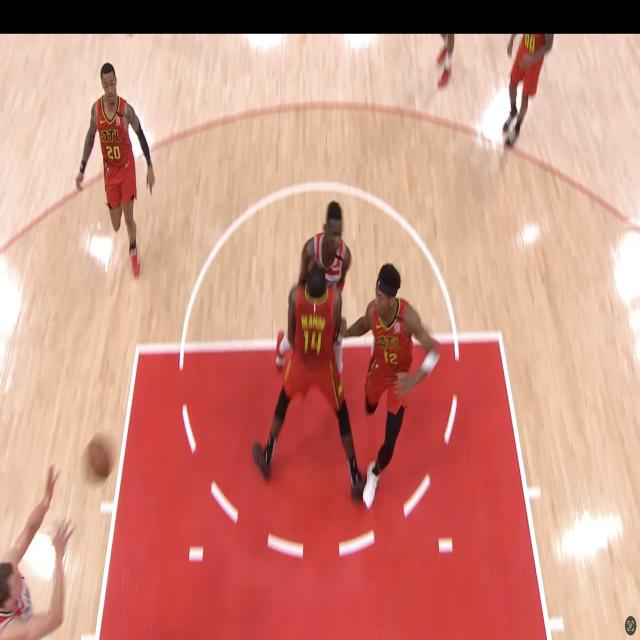foul: (249, 161, 371, 532)
